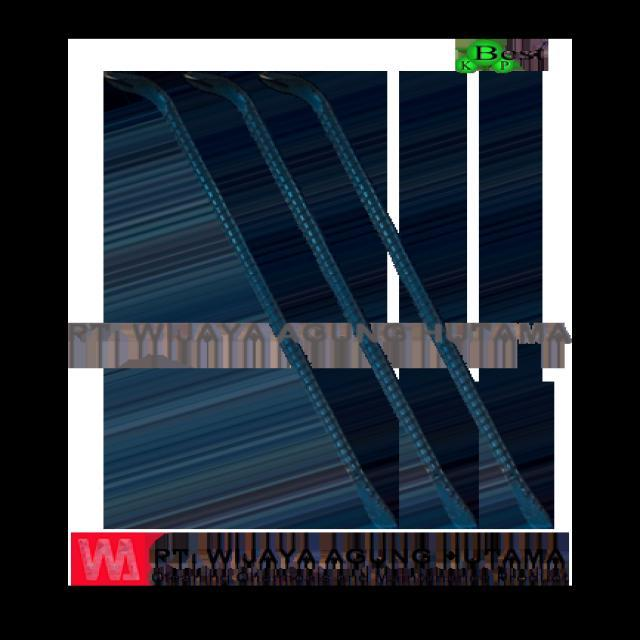Linggis: (84, 56, 575, 536)
